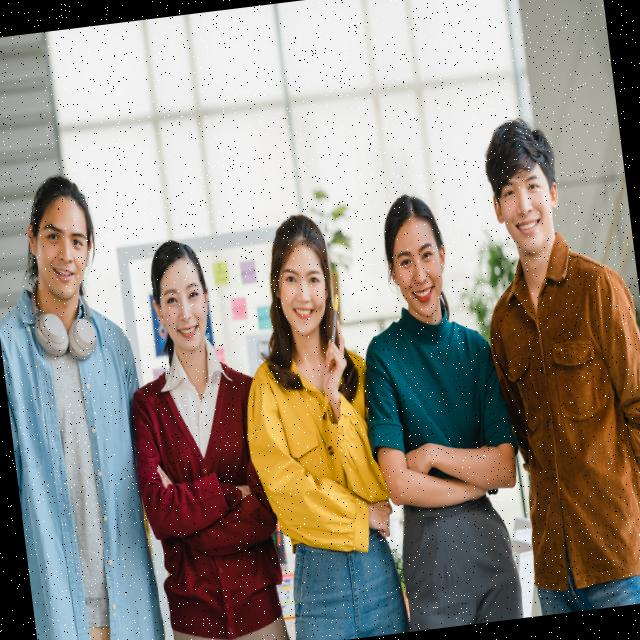Person: (338, 184, 540, 634), (464, 106, 640, 617), (220, 205, 409, 640), (0, 167, 172, 640), (110, 230, 291, 640)
